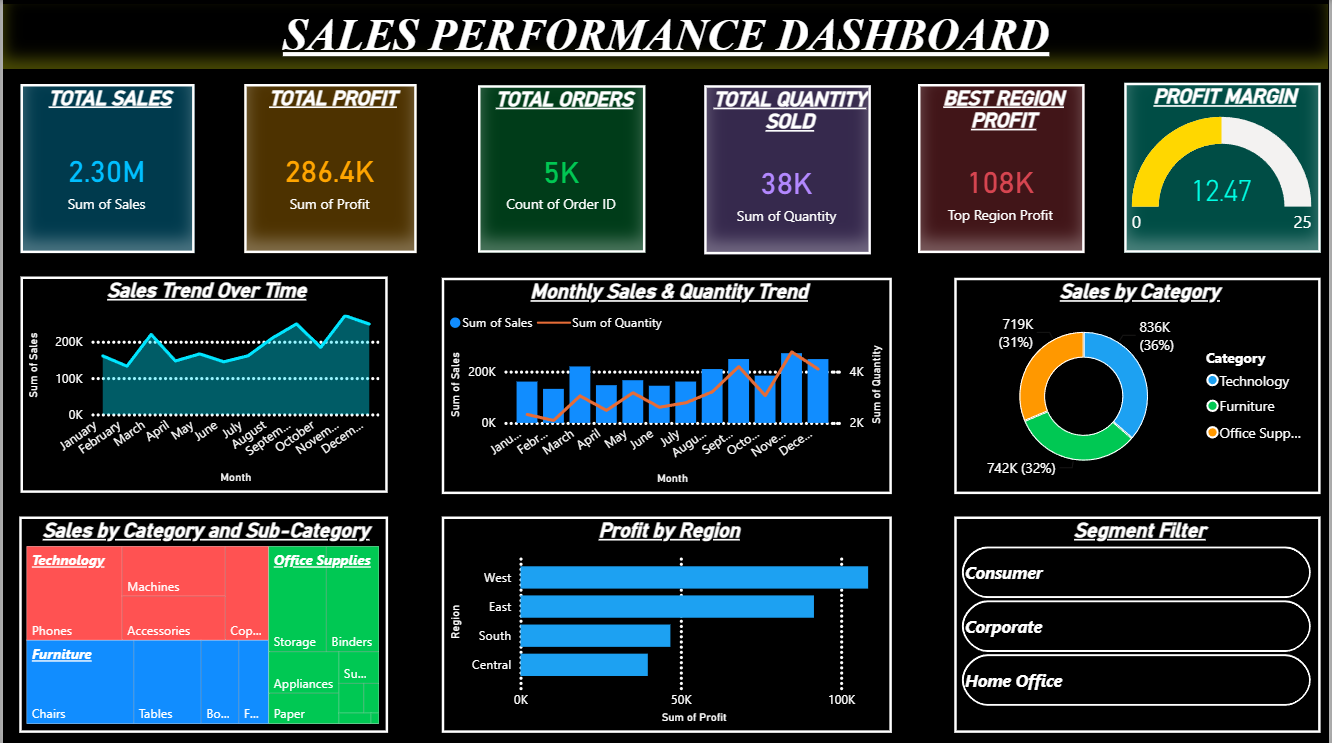

What the dashboard file says about the page in this screenshot:
{"tool":"powerbi","page":{"name":"Page 1","canvas":[1280,720],"ordinal":0},"visuals":[{"type":"card","title":"TOTAL SALES","fields":{"Values":["Sum(Sample - Superstore.Sales)"]},"box":[16.9,82,167.7,162.9],"z":0},{"type":"card","title":"TOTAL PROFIT","fields":{"Values":["Sum(Sample - Superstore.Profit)"]},"box":[232.8,82,166.5,162.9],"z":1000},{"type":"card","title":"TOTAL ORDERS","fields":{"Values":["Count(Sample - Superstore.Order ID)"]},"box":[458.4,83.2,161.7,161.7],"z":2000},{"type":"card","title":"TOTAL QUANTITY SOLD","fields":{"Values":["Sum(Sample - Superstore.Quantity)"]},"box":[676.8,83.2,160.5,162.9],"z":3000},{"type":"gauge","title":"PROFIT MARGIN","fields":{"Y":["Sample - Superstore.Profit Margin %"]},"box":[1082.2,80.8,189.4,164.1],"z":4000},{"type":"lineChart","title":"Sales Trend Over Time","fields":{"Category":["Sample - Superstore.Order Date.Variation.Date Hierarchy.Month"],"Y":["Sum(Sample - Superstore.Sales)"]},"box":[16.9,267.8,354.7,208.7],"z":5000},{"type":"lineStackedColumnComboChart","title":"Monthly Sales & Quantity Trend","fields":{"Y":["Sum(Sample - Superstore.Sales)"],"Y2":["Sum(Sample - Superstore.Quantity)"],"Category":["Sample - Superstore.Order Date.Variation.Date Hierarchy.Month"]},"box":[423.5,269,434.3,208.7],"z":6000},{"type":"donutChart","title":"Sales by Category","fields":{"Category":["Sample - Superstore.Category"],"Y":["Sum(Sample - Superstore.Sales)"]},"box":[918.1,269,353.5,208.7],"z":7000},{"type":"treemap","title":"Sales by Category and Sub-Category","fields":{"Group":["Sample - Superstore.Category"],"Details":["Sample - Superstore.Sub-Category"],"Values":["Sum(Sample - Superstore.Sales)"]},"box":[15.7,499.5,355.9,208.7],"z":8000},{"type":"clusteredBarChart","title":"Profit by Region","fields":{"Category":["Sample - Superstore.Region"],"Y":["Sum(Sample - Superstore.Profit)"]},"box":[423.5,499.5,434.3,208.7],"z":9000},{"type":"listSlicer","title":"Segment Filter","fields":{"Values":["Sample - Superstore.Segment"]},"box":[918.1,499.5,353.5,208.7],"z":10000},{"type":"textbox","box":[0,4.8,1280,63],"z":11000},{"type":"card","title":"BEST REGION PROFIT","fields":{"Values":["Sample - Superstore.Top Region Profit"]},"box":[883.1,82,160.5,162.9],"z":12000}]}

Visuals, with their boxes in screenshot pixels (x1, y1, x2, y2), scaled from the page's 1280x720 canvas onto the 1332x743 screenshot:
"TOTAL SALES" card: pyautogui.locateOnScreen(18, 85, 192, 253)
"TOTAL PROFIT" card: pyautogui.locateOnScreen(242, 85, 416, 253)
"TOTAL ORDERS" card: pyautogui.locateOnScreen(477, 86, 645, 253)
"TOTAL QUANTITY SOLD" card: pyautogui.locateOnScreen(704, 86, 871, 254)
"PROFIT MARGIN" gauge: pyautogui.locateOnScreen(1126, 83, 1323, 253)
"Sales Trend Over Time" lineChart: pyautogui.locateOnScreen(18, 276, 387, 492)
"Monthly Sales & Quantity Trend" lineStackedColumnComboChart: pyautogui.locateOnScreen(441, 278, 893, 493)
"Sales by Category" donutChart: pyautogui.locateOnScreen(955, 278, 1323, 493)
"Sales by Category and Sub-Category" treemap: pyautogui.locateOnScreen(16, 515, 387, 731)
"Profit by Region" clusteredBarChart: pyautogui.locateOnScreen(441, 515, 893, 731)
"Segment Filter" listSlicer: pyautogui.locateOnScreen(955, 515, 1323, 731)
textbox: pyautogui.locateOnScreen(0, 5, 1331, 70)
"BEST REGION PROFIT" card: pyautogui.locateOnScreen(919, 85, 1086, 253)
